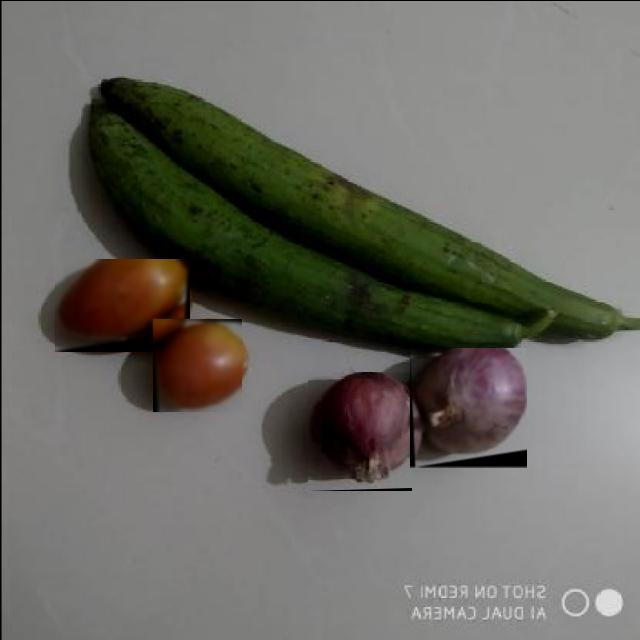onion: (410, 348, 527, 468), (308, 372, 412, 492)
tomato: (55, 258, 190, 351), (153, 318, 242, 411)
